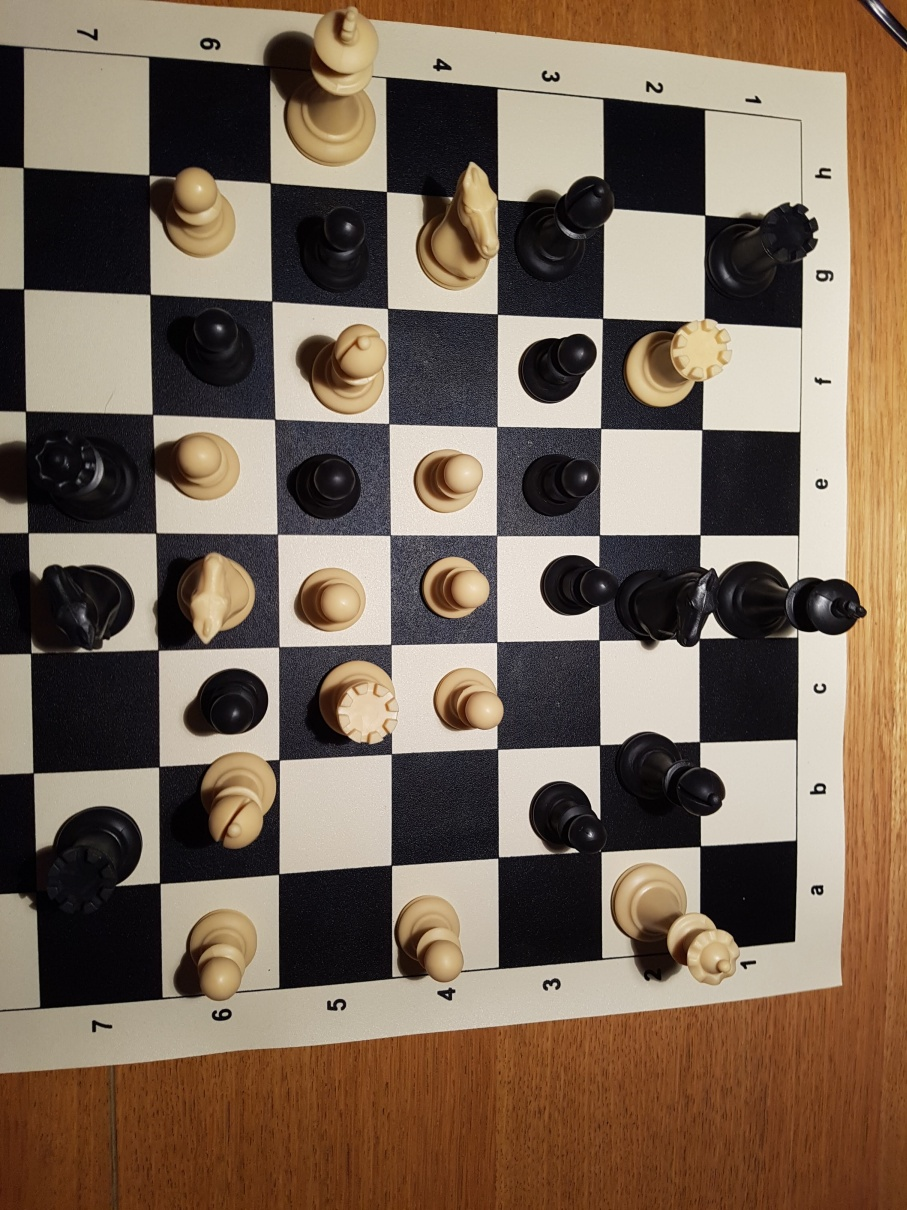chess_bishop: (622, 729, 723, 825), (520, 178, 615, 280), (201, 747, 284, 855), (307, 321, 388, 414)
chess_king: (288, 5, 379, 167), (720, 561, 867, 640)
chess_knight: (408, 159, 499, 290), (43, 558, 134, 646), (178, 546, 260, 636), (628, 561, 717, 641)
chess_pawn: (392, 892, 470, 989), (162, 165, 238, 257), (186, 908, 257, 1006), (298, 208, 378, 290), (182, 306, 255, 392), (527, 780, 604, 858), (417, 549, 492, 627), (515, 331, 596, 399), (432, 665, 508, 737), (167, 428, 240, 502), (292, 453, 364, 523), (521, 453, 598, 516), (414, 448, 485, 516), (299, 565, 367, 635), (198, 669, 268, 736), (538, 549, 611, 613)
chess_queen: (608, 859, 746, 984), (28, 430, 138, 517)
chess_rook: (622, 317, 727, 408), (48, 805, 141, 907), (719, 201, 817, 293), (315, 657, 401, 753)
